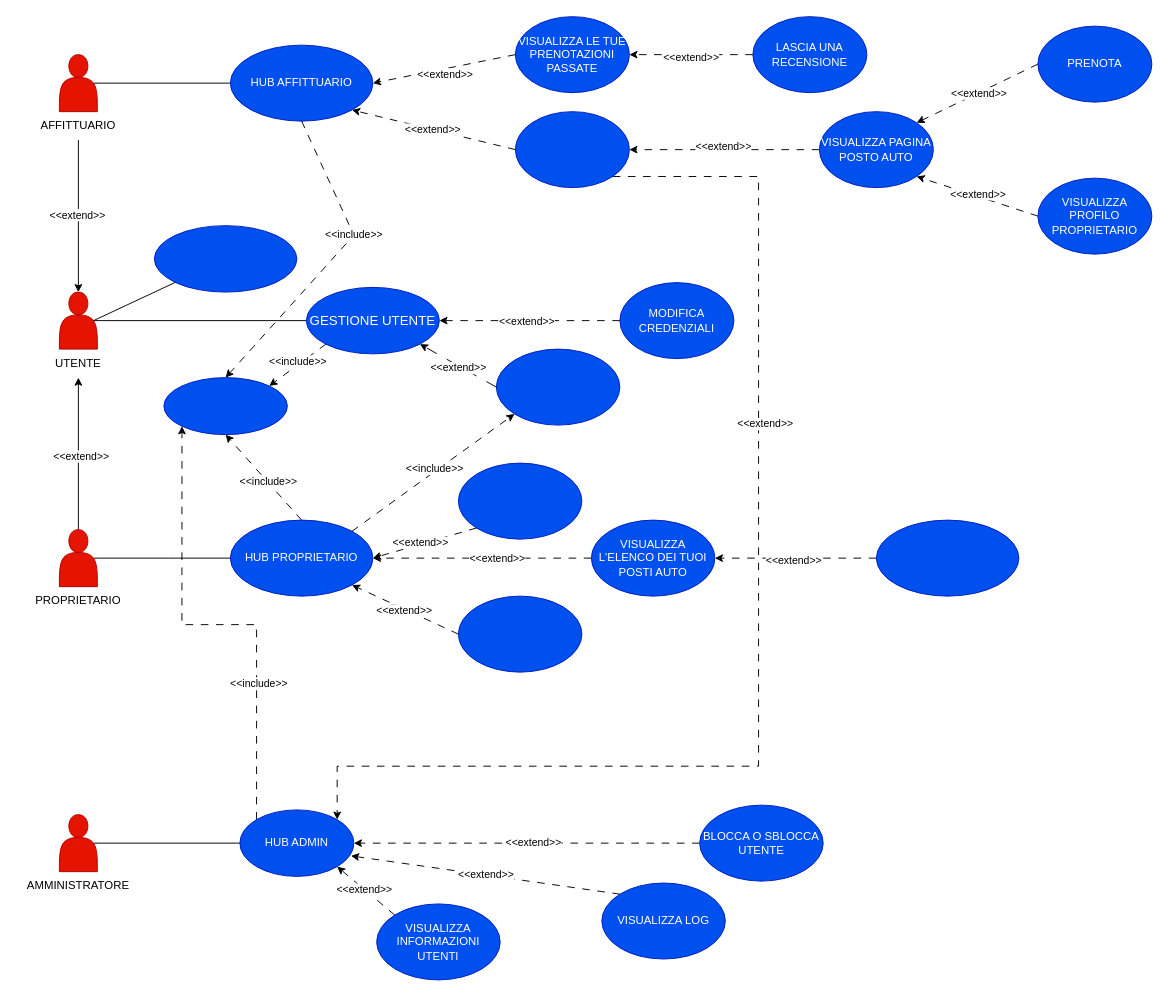
This 1169x997 diagram has some shape labels left out. Each missing label, with the centre of its shape:
"AGGIUNGI O RIMUOVI DATE IN CUI È DISPONIBILE" belongs at point (947, 557).
"AGGIUNGI POSTO AUTO" belongs at point (519, 500).
"INSERISCI DOCUMENTO" belongs at point (557, 386).
"LOG IN" belongs at point (225, 406).
"REGISTRAZIONE" belongs at point (225, 258).
"VISUALIZZA ELENCO POSTI AUTO" belongs at point (571, 149).
"VISUALIZZA PRENOTAZIONI RICEVUTE" belongs at point (519, 633).
